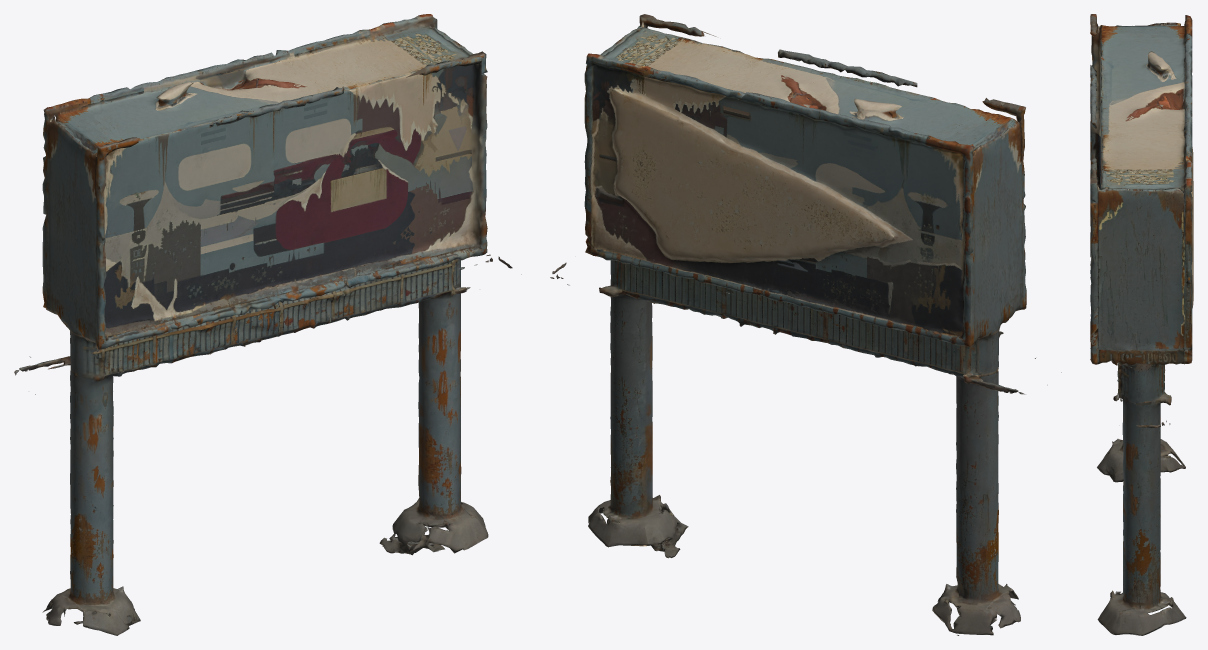
Rendered from Prop_Billboard.glb.
3 views of the same model, side by side, from view 1: azimuth 30°, elevation 25°; view 2: azimuth 150°, elevation 25°; view 3: azimuth 270°, elevation 25° (orthographic). The views are drawn at different scales.
Visible parts, largest first — view 1: texture_mapping; view 2: texture_mapping; view 3: texture_mapping.
Boxes of the visible parts, x1,y1,x2,y2 form: texture_mapping: (14, 14, 521, 635); texture_mapping: (550, 14, 1061, 635); texture_mapping: (1090, 14, 1193, 635).
Size of the model in its own units: 0.9946 by 1.01 by 0.2036.
1 material, 1 textured.
